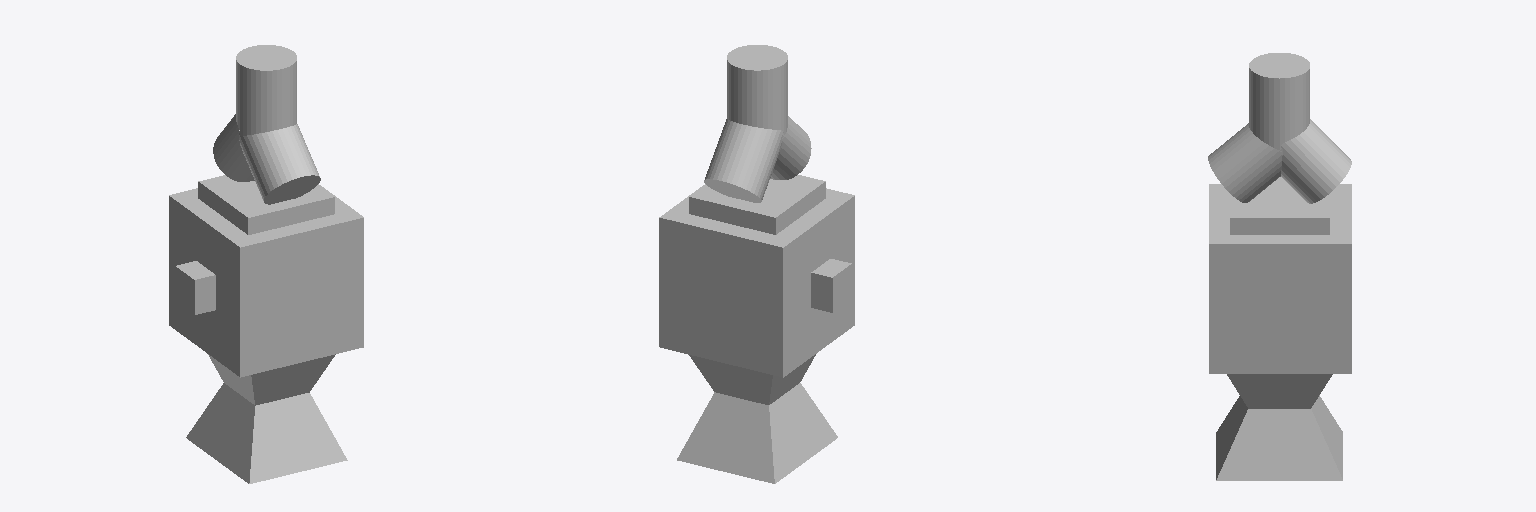
Rendered from baileys.obj.
3 renders of one model, left to right at view 1: azimuth 30°, elevation 25°; view 2: azimuth 150°, elevation 25°; view 3: azimuth 270°, elevation 25°, orthographic.
Visible parts, largest first — view 1: Cube.1, Cube, Cylinder.1, Cube.4, Cylinder.2, Cube.2, Cube.3, Cylinder.4; view 2: Cube.1, Cube, Cube.4, Cylinder.4, Cylinder.1, Cube.2, Cube.3, Cylinder.2, Cylinder; view 3: Cube.1, Cube, Cylinder.1, Cube.4, Cylinder.4, Cylinder.2, Cube.2, Cylinder.
Boxes of the visible parts, x1,y1,x2,y2 form: Cube.1: [169, 184, 363, 377]; Cube: [186, 383, 347, 483]; Cylinder.1: [236, 45, 296, 134]; Cube.4: [198, 175, 334, 234]; Cylinder.2: [239, 124, 320, 204]; Cube.2: [208, 354, 335, 405]; Cube.3: [175, 261, 215, 314]; Cylinder.4: [213, 114, 254, 181]; Cube.1: [659, 184, 854, 377]; Cube: [677, 383, 837, 483]; Cube.4: [689, 175, 825, 234]; Cylinder.4: [704, 119, 783, 202]; Cylinder.1: [727, 45, 787, 129]; Cube.2: [689, 354, 815, 404]; Cube.3: [811, 259, 851, 312]; Cylinder.2: [770, 116, 811, 179]; Cylinder: [727, 71, 787, 138]; Cube.1: [1209, 184, 1351, 373]; Cube: [1216, 395, 1342, 480]; Cylinder.1: [1249, 53, 1309, 143]; Cube.4: [1230, 177, 1329, 234]; Cylinder.4: [1281, 119, 1351, 203]; Cylinder.2: [1208, 123, 1282, 202]; Cube.2: [1227, 374, 1332, 408]; Cylinder: [1249, 77, 1309, 151].
Size of the model in its own units: 286 by 736 by 245.